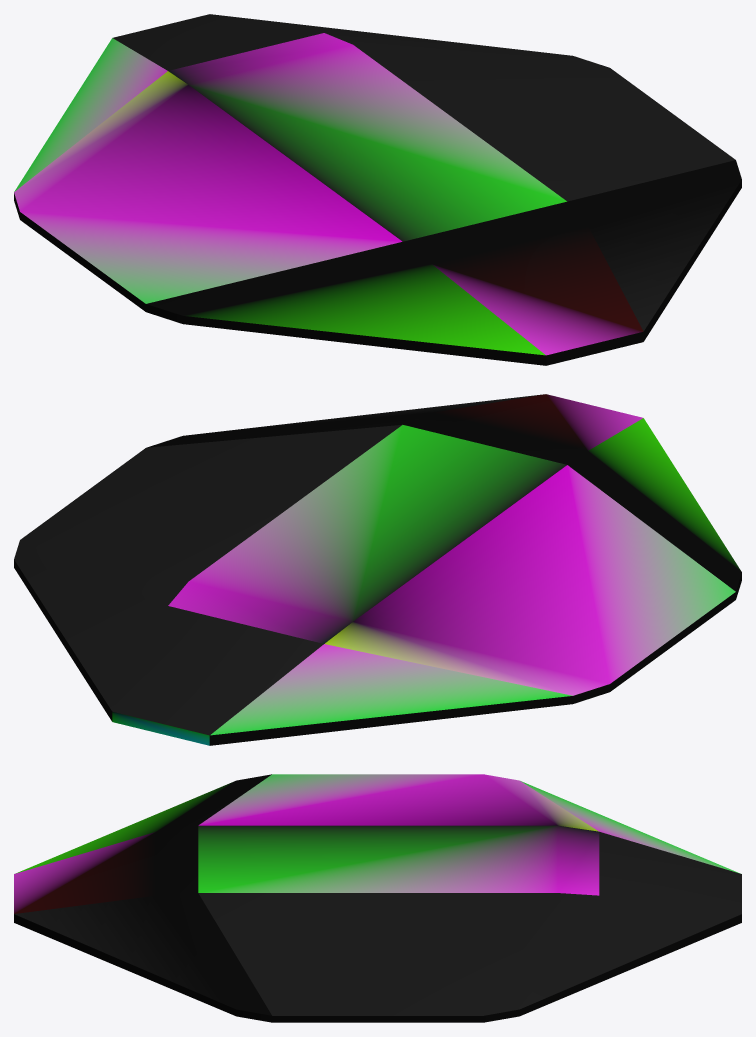
File: Geo_Body_A.fbx
3 views of the same model, one above another, from view 1: azimuth 30°, elevation 25°; view 2: azimuth 150°, elevation 25°; view 3: azimuth 270°, elevation 25° (orthographic). The views are drawn at different scales.
Parts seen in each view (by area): view 1: Geo_Body_A; view 2: Geo_Body_A; view 3: Geo_Body_A.
Boxes of the visible parts, bbox=[...] form: Geo_Body_A: bbox=[14, 14, 741, 365]; Geo_Body_A: bbox=[14, 394, 741, 745]; Geo_Body_A: bbox=[14, 774, 741, 1022].
Size of the model in its own units: 9.48 by 1.44 by 12.08.
